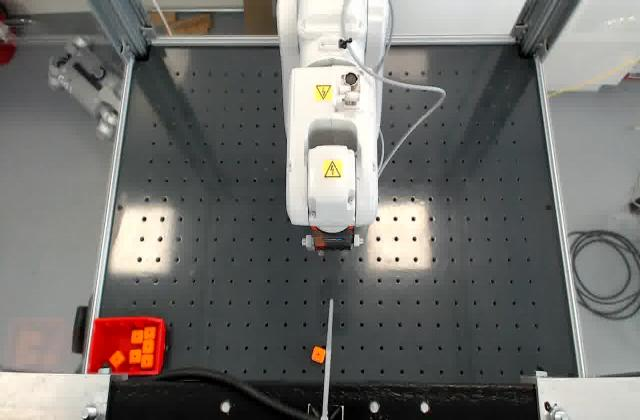cube: (311, 347, 327, 364)
